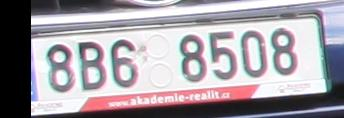0: (241, 29, 269, 79)
5: (209, 31, 238, 80)
6: (111, 40, 139, 88)
8: (46, 43, 77, 93), (180, 34, 207, 83), (272, 27, 299, 75)
B: (79, 41, 108, 91)
